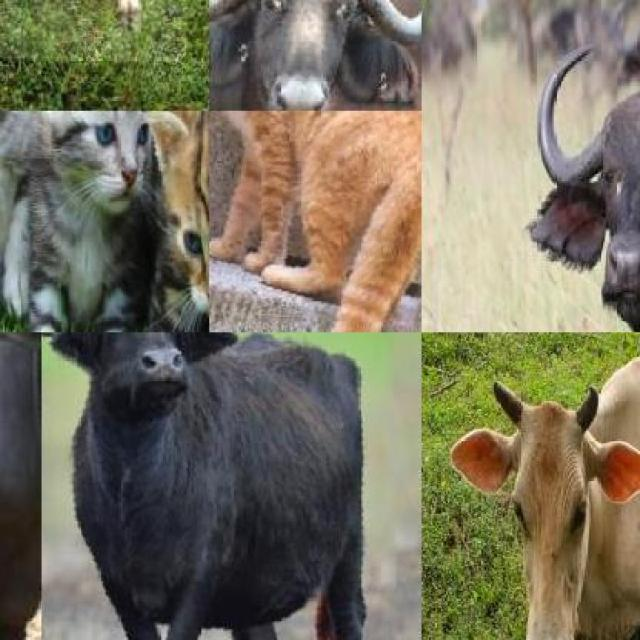buffalo: (41, 332, 422, 640), (538, 45, 640, 332), (209, 0, 422, 111), (212, 0, 422, 111)
cat: (209, 111, 422, 332), (55, 111, 163, 232), (157, 111, 209, 332), (0, 111, 54, 157)
cow: (449, 375, 640, 640)
